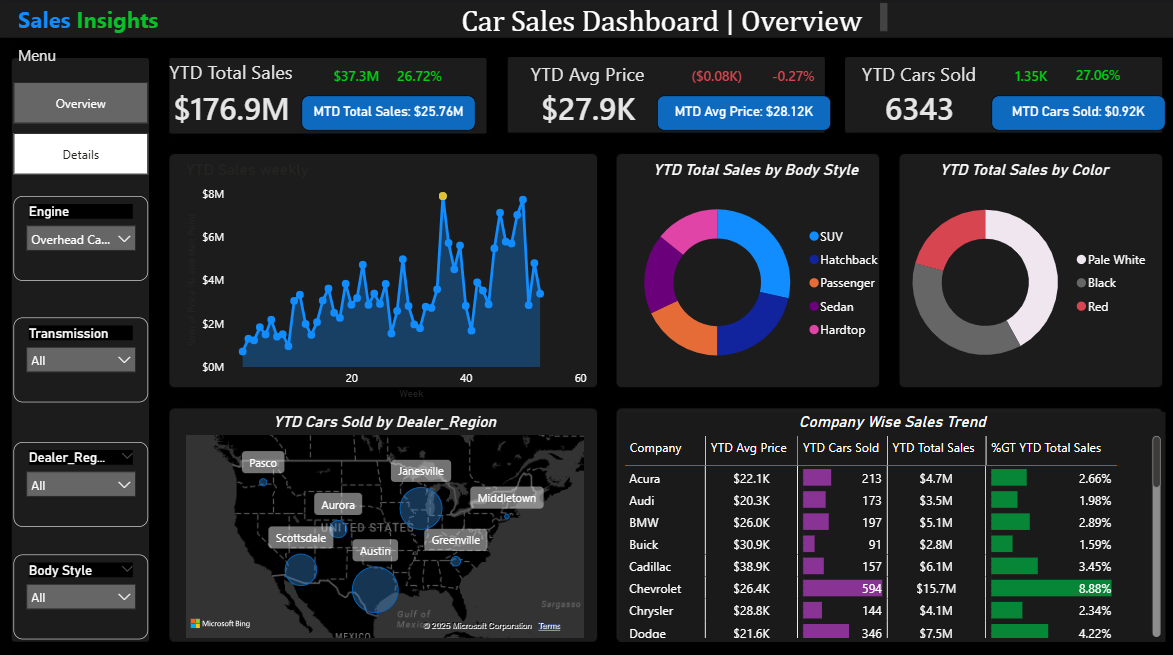

The dashboard page shown, as its layout file describes it:
{"tool":"powerbi","page":{"name":"Overview","canvas":[1280,720],"ordinal":0},"visuals":[{"type":"card","title":"YTD Total Sales","fields":{"Values":["car_data.YTD Total Sales"]},"box":[177.6,66.1,153.1,77.5],"z":0},{"type":"card","title":"Sales Difference","fields":{"Values":["car_data.Sales Difference"]},"box":[353.4,66.1,71.8,39.7],"z":1000},{"type":"card","title":"Sales Difference","fields":{"Values":["car_data.YOY Sales Growth"]},"box":[425.2,66.1,66.1,39.7],"z":2000},{"type":"card","fields":{"Values":["car_data.MTD KPI"]},"box":[330.7,105.8,189,37.8],"z":3000},{"type":"card","title":"YTD Avg Price","fields":{"Values":["car_data.YTD Avg Price"]},"box":[561.3,68,158.7,75.6],"z":4000},{"type":"card","title":"Sales Difference","fields":{"Values":["car_data.Avg Price Diff"]},"box":[738.9,66.1,83.2,39.7],"z":5000},{"type":"card","title":"Sales Difference","fields":{"Values":["car_data.YOY Avg Price Growth"]},"box":[822.1,66.1,83.2,39.7],"z":6000},{"type":"card","fields":{"Values":["car_data.MTD Avg Price KPI"]},"box":[716.2,105.8,189,37.8],"z":7000},{"type":"card","title":"YTD Cars Sold","fields":{"Values":["car_data.YTD Cars Sold"]},"box":[920.3,68,158.7,75.6],"z":8000},{"type":"card","title":"Sales Difference","fields":{"Values":["car_data.Cars Sold Diff"]},"box":[1079.1,66.1,85,39.7],"z":9000},{"type":"card","title":"Sales Difference","fields":{"Values":["car_data.YOY Cars Sold Growth"]},"box":[1151,65.3,83.7,40.8],"z":10000},{"type":"card","fields":{"Values":["car_data.MTD Cars Sold KPI"]},"box":[1079.1,105.8,189,37.8],"z":11000},{"type":"areaChart","title":"YTD Sales weekly","fields":{"Category":["Calendar table.Week"],"Y":["Sum(car_data.Price ($))","car_data.Max Point"]},"box":[200,175.5,446.9,263.3],"z":12000},{"type":"donutChart","title":"YTD Total Sales by Body Style","fields":{"Category":["car_data.Body Style"],"Y":["car_data.YTD Total Sales"]},"box":[676,176,292,244],"z":13000},{"type":"donutChart","title":"YTD Total Sales by Color","fields":{"Y":["car_data.YTD Total Sales"],"Category":["car_data.Color"]},"box":[968,176,292,244],"z":14000},{"type":"map","fields":{"Size":["car_data.YTD Cars Sold"],"Category":["car_data.Dealer_Region"]},"box":[200,449,440.8,249],"z":15000},{"type":"tableEx","title":"Company Wise Sales Trend","fields":{"Values":["car_data.Company","car_data.YTD Avg Price","car_data.YTD Cars Sold","car_data.YTD Total Sales1","car_data.YTD Total Sales"]},"box":[675.5,449,591.8,249],"z":16000},{"type":"textbox","box":[478.8,0,492.3,44.2],"z":17000},{"type":"slicer","fields":{"Values":["car_data.Body Style"]},"box":[17.3,603.8,146.2,92.3],"z":18000},{"type":"slicer","fields":{"Values":["car_data.Dealer_Region"]},"box":[17.3,480.8,146.2,92.3],"z":19000},{"type":"slicer","fields":{"Values":["car_data.Transmission"]},"box":[17.3,346.2,146.2,92.3],"z":20000},{"type":"slicer","fields":{"Values":["car_data.Engine"]},"box":[17.3,215.4,146.2,92.3],"z":21000},{"type":"pageNavigator","box":[17.3,90.4,146.2,100],"z":22000},{"type":"textbox","box":[17.3,1.9,182.7,44.2],"z":23000},{"type":"textbox","box":[17.3,46.2,65.4,42.3],"z":24000}]}

Visuals, with their boxes in screenshot pixels (x1, y1, x2, y2), scaled from the page's 1280x720 canvas onto the 1173x655 screenshot:
"YTD Total Sales" card: rect(163, 60, 303, 131)
"Sales Difference" card: rect(324, 60, 390, 96)
"Sales Difference" card: rect(390, 60, 450, 96)
card - car_data.MTD KPI: rect(303, 96, 476, 131)
"YTD Avg Price" card: rect(514, 62, 660, 131)
"Sales Difference" card: rect(677, 60, 753, 96)
"Sales Difference" card: rect(753, 60, 830, 96)
card - car_data.MTD Avg Price KPI: rect(656, 96, 830, 131)
"YTD Cars Sold" card: rect(843, 62, 989, 131)
"Sales Difference" card: rect(989, 60, 1067, 96)
"Sales Difference" card: rect(1055, 59, 1131, 97)
card - car_data.MTD Cars Sold KPI: rect(989, 96, 1162, 131)
"YTD Sales weekly" areaChart: rect(183, 160, 593, 399)
"YTD Total Sales by Body Style" donutChart: rect(619, 160, 887, 382)
"YTD Total Sales by Color" donutChart: rect(887, 160, 1155, 382)
map - car_data.YTD Cars Sold x car_data.Dealer_Region: rect(183, 408, 587, 635)
"Company Wise Sales Trend" tableEx: rect(619, 408, 1161, 635)
textbox: rect(439, 0, 890, 40)
slicer - car_data.Body Style: rect(16, 549, 150, 633)
slicer - car_data.Dealer_Region: rect(16, 437, 150, 521)
slicer - car_data.Transmission: rect(16, 315, 150, 399)
slicer - car_data.Engine: rect(16, 196, 150, 280)
pageNavigator: rect(16, 82, 150, 173)
textbox: rect(16, 2, 183, 42)
textbox: rect(16, 42, 76, 81)
